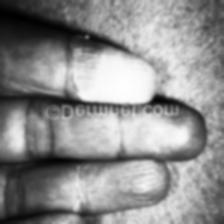Toxin: (64, 44, 153, 100), (70, 158, 158, 212)
